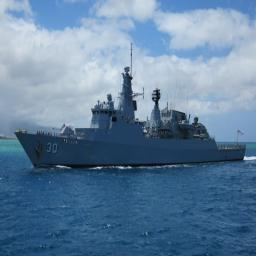Fragata: (15, 41, 248, 174)
